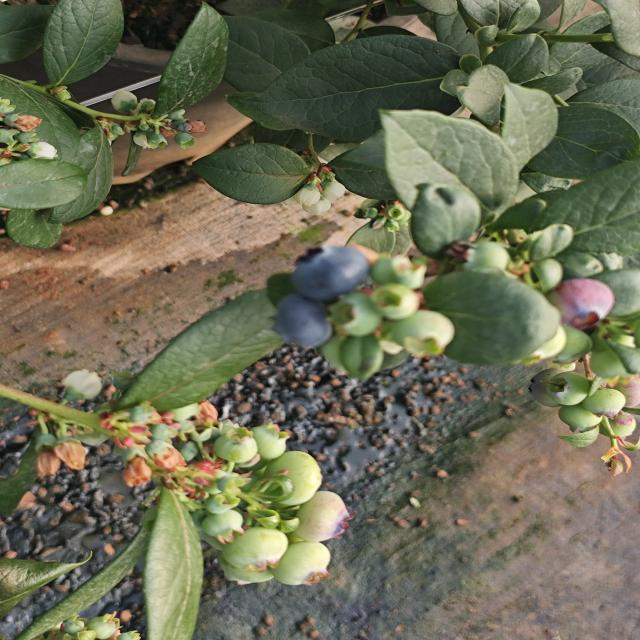ripe: (289, 243, 372, 304), (268, 294, 343, 351)
